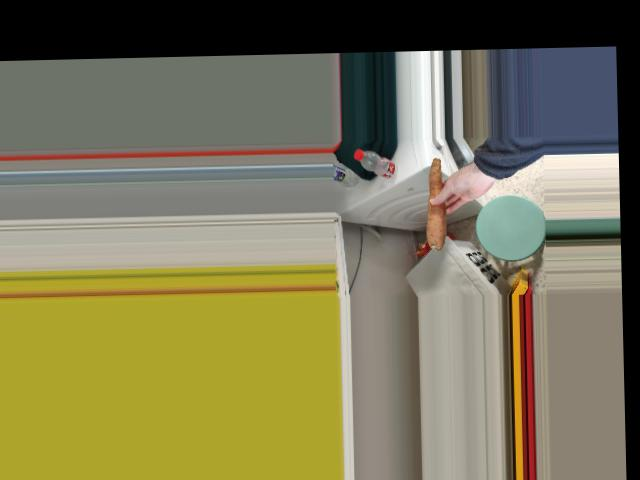sweet_potato: (423, 156, 454, 247)
